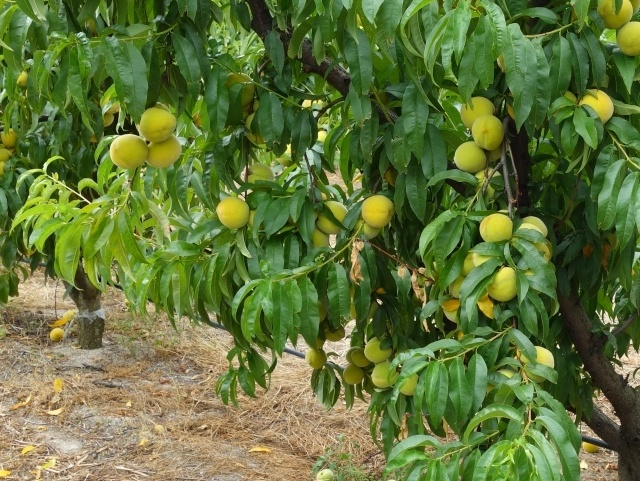peach: (106, 131, 149, 174), (574, 85, 616, 129), (133, 105, 178, 146), (518, 344, 560, 385), (458, 90, 499, 131), (212, 192, 253, 231), (484, 264, 523, 304), (357, 193, 398, 231), (313, 197, 352, 236), (138, 132, 182, 166), (478, 209, 515, 249), (450, 138, 489, 175), (470, 163, 509, 200), (471, 112, 507, 152), (594, 1, 634, 33), (366, 360, 403, 393), (361, 334, 395, 369), (351, 212, 385, 246), (226, 67, 258, 103), (238, 161, 277, 189), (304, 223, 335, 258), (615, 18, 640, 60), (393, 369, 424, 399), (443, 266, 471, 296), (455, 250, 483, 277), (305, 346, 329, 373), (343, 342, 367, 369), (342, 363, 366, 389)
